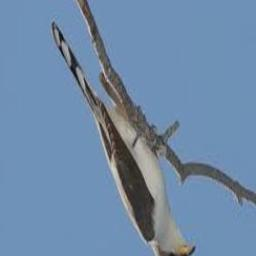Cuckoo: (51, 20, 195, 256)
